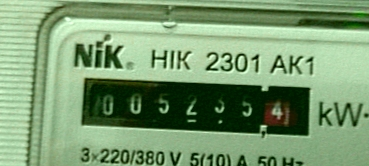0: (98, 92, 115, 118), (126, 92, 143, 117)
2: (181, 92, 199, 119)
3: (208, 91, 227, 117)
4: (266, 95, 286, 125)
5: (236, 92, 254, 121), (154, 91, 170, 117)
screen: (66, 62, 320, 151)
